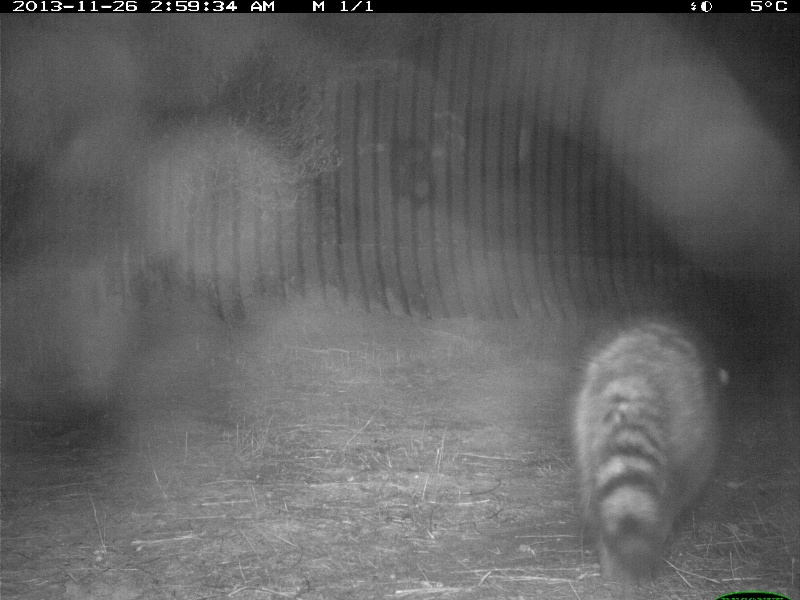raccoon: (569, 319, 733, 585)
